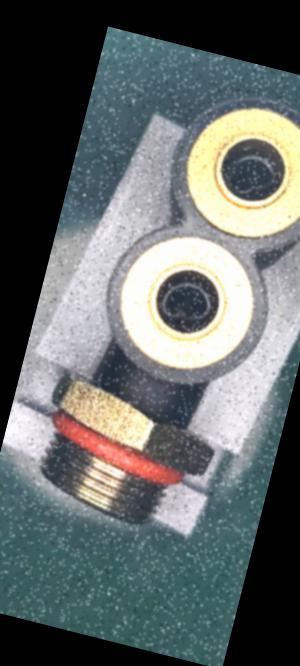joint line: (134, 380, 154, 417)
off-centered: (151, 268, 224, 339), (213, 143, 288, 208)
